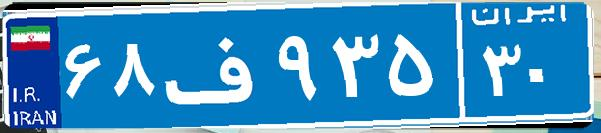0: (525, 38, 570, 115)
3: (330, 28, 385, 110), (475, 38, 525, 113)
5: (385, 28, 445, 110)
6: (57, 26, 110, 107)
8: (110, 28, 158, 105)
9: (273, 28, 330, 110)
ف: (158, 15, 273, 115)
